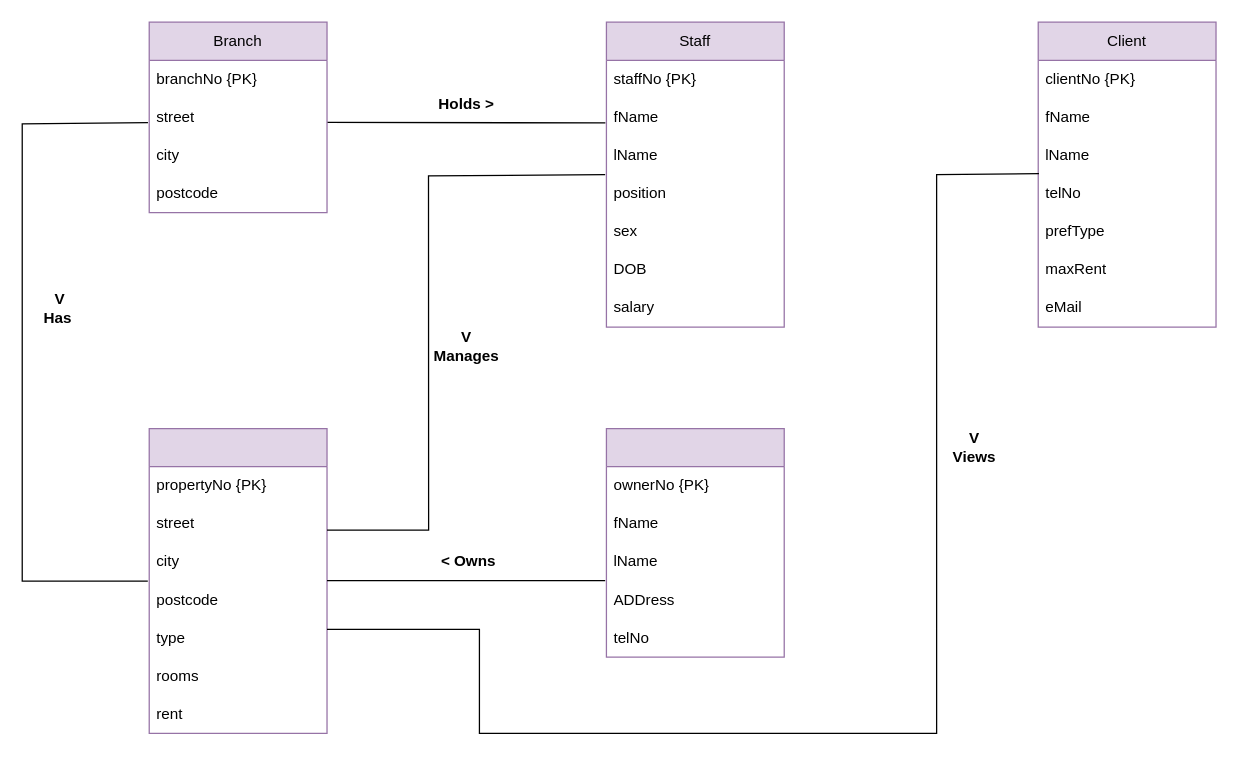
The diagram is 1238 pixels wide and 757 high, and some of its shapes have lost their labels. Each missing label, with the box of its shape:
PrivateOwner: (605, 427, 784, 657)
PropretyForRent: (148, 427, 327, 733)
